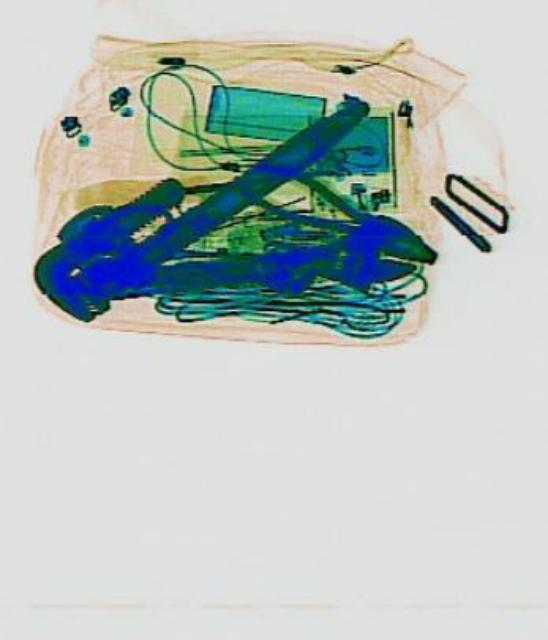Pliers: (226, 143, 441, 281)
